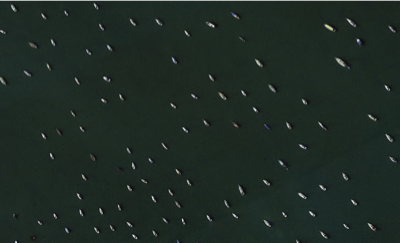boat: (334, 55, 351, 72), (383, 131, 396, 147), (324, 23, 337, 37), (169, 52, 180, 68), (231, 12, 243, 25), (366, 220, 378, 233), (262, 216, 273, 230), (346, 17, 358, 29), (204, 19, 217, 30), (387, 25, 398, 37), (254, 58, 265, 70), (267, 83, 277, 96), (236, 184, 246, 197), (21, 68, 32, 79), (259, 177, 270, 188), (368, 112, 378, 124), (148, 228, 158, 240), (354, 36, 365, 46), (80, 174, 90, 185), (89, 1, 101, 10), (382, 81, 391, 93), (160, 141, 169, 153), (350, 198, 359, 210), (341, 171, 349, 184), (128, 18, 138, 28), (387, 155, 397, 165), (318, 184, 328, 194), (154, 19, 165, 28), (101, 75, 112, 84), (48, 38, 57, 48), (38, 13, 48, 22), (84, 48, 94, 57), (317, 122, 327, 131), (180, 125, 189, 135), (54, 127, 63, 137), (141, 179, 151, 188), (73, 77, 81, 88), (284, 121, 292, 132), (202, 214, 213, 222), (279, 160, 286, 172), (97, 24, 106, 33), (106, 45, 115, 54), (238, 35, 247, 44), (263, 125, 272, 134), (77, 126, 86, 135), (320, 231, 329, 240), (44, 62, 52, 72), (184, 30, 192, 40), (48, 151, 56, 161), (233, 213, 241, 223), (178, 217, 186, 227), (27, 43, 40, 49), (240, 87, 247, 98), (218, 94, 227, 102), (230, 121, 238, 130), (149, 195, 157, 204), (0, 78, 7, 88), (118, 93, 125, 103), (208, 74, 215, 84), (297, 143, 307, 150), (126, 145, 133, 155), (131, 162, 138, 172), (168, 189, 175, 199), (76, 193, 83, 203), (97, 206, 104, 216), (62, 10, 70, 18), (190, 94, 198, 102), (116, 205, 124, 213), (92, 227, 100, 235), (124, 223, 132, 231), (301, 98, 308, 107), (203, 120, 210, 129), (89, 153, 96, 162), (148, 156, 155, 165), (186, 179, 193, 188), (299, 191, 306, 200), (77, 211, 86, 218), (63, 224, 70, 233), (130, 235, 139, 242), (52, 211, 58, 221), (100, 97, 107, 105), (170, 102, 177, 110), (70, 111, 77, 119), (174, 168, 181, 176), (124, 183, 131, 191), (109, 225, 116, 233), (174, 204, 181, 212), (41, 132, 47, 141), (11, 5, 17, 13), (0, 28, 6, 36), (251, 106, 257, 114), (35, 217, 41, 225), (158, 218, 166, 224), (343, 224, 349, 231), (307, 212, 315, 217), (225, 201, 230, 209), (283, 213, 289, 219)
